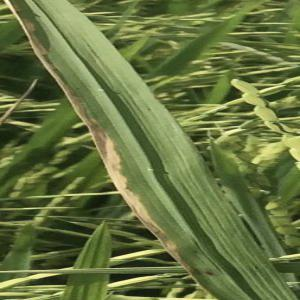2 BacterialBlight: (67, 33, 207, 268)
